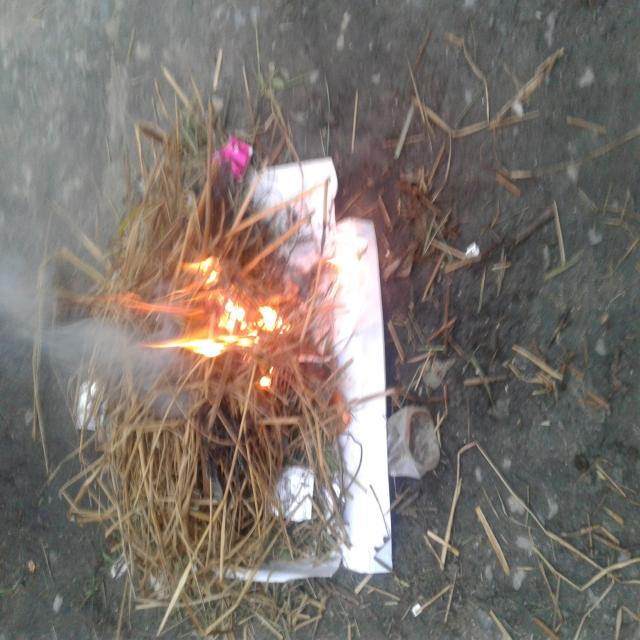Fire: (189, 75, 287, 422)
